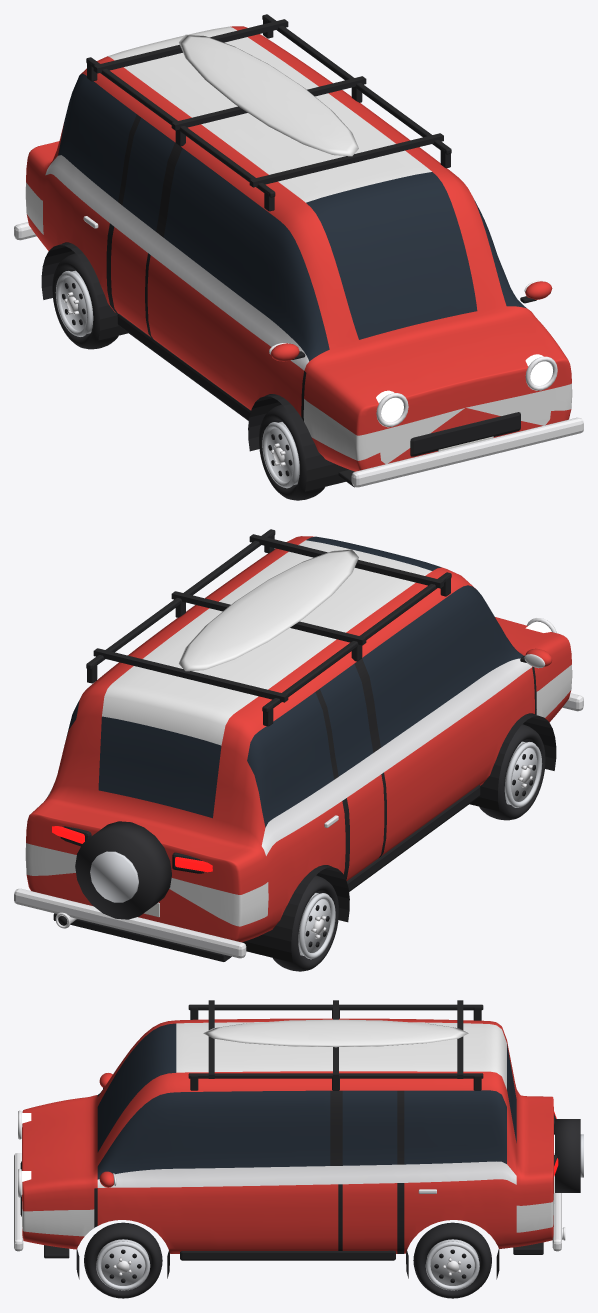
Rendered from sundog_mid.glb.
The picture shows the model from 3 angles, top to bottom: view 1: azimuth 30°, elevation 25°; view 2: azimuth 150°, elevation 25°; view 3: azimuth 270°, elevation 25°; orthographic projection. The views are drawn at different scales.
Parts seen in each view (by area): view 1: body, wheel_fr, wheel_rr; view 2: body, wheel_rr, wheel_fr; view 3: body, wheel_fl, wheel_rl.
Part boxes in pixels (x1,y1,x2,y2): body: (14,14,583,491); wheel_fr: (259,404,324,500); wheel_rr: (52,253,118,349); body: (14,529,583,962); wheel_rr: (273,875,338,971); wheel_fr: (479,724,545,820); body: (14,1000,583,1279); wheel_fl: (84,1222,162,1298); wheel_rl: (413,1222,491,1298).
Bounding box in the file's own units: 2.23 × 2.14 × 4.93.
